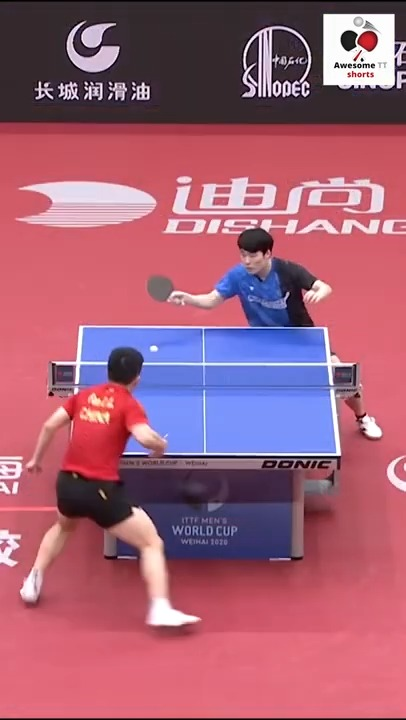Ball: (149, 343, 159, 354)
